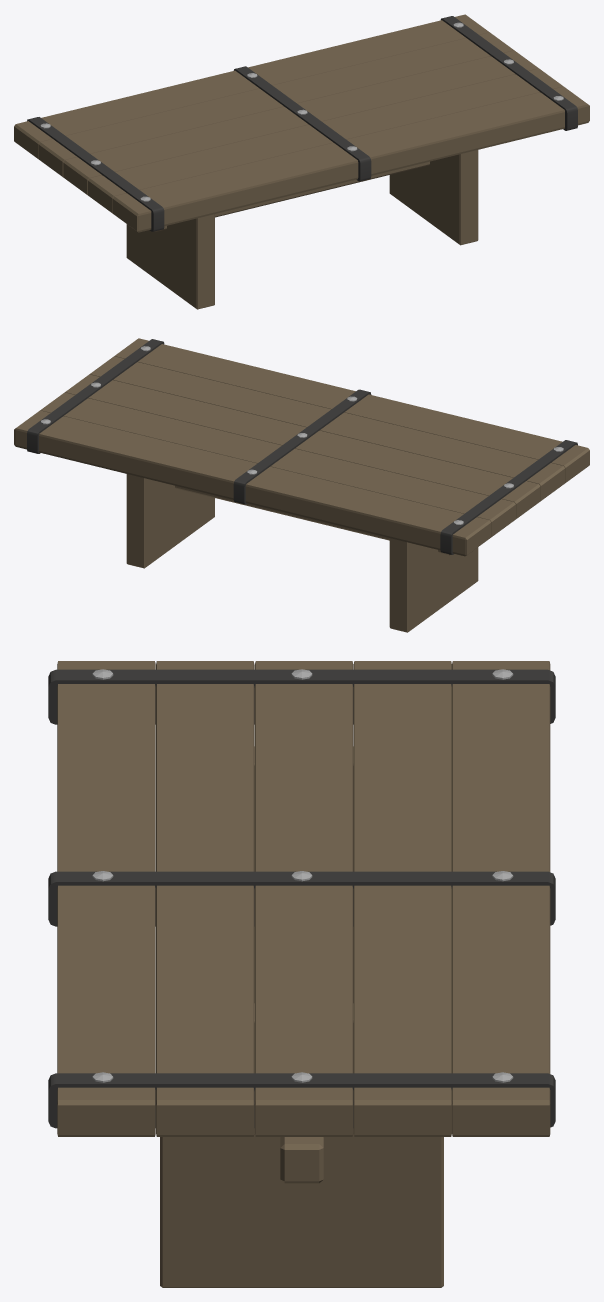
Rendered from Medival_table_temp.fbx.
3 renders of one model, top to bottom at view 1: azimuth 30°, elevation 25°; view 2: azimuth 150°, elevation 25°; view 3: azimuth 270°, elevation 25°, orthographic. The views are drawn at different scales.
Parts seen in each view (by area): view 1: pCube24; view 2: pCube24; view 3: pCube24.
Boxes of the visible parts, <box> form: pCube24: <box>14,14,589,309</box>; pCube24: <box>14,338,589,632</box>; pCube24: <box>48,661,555,1287</box>.
Bounding box in the file's own units: 24.11 × 7.07 × 11.68.
